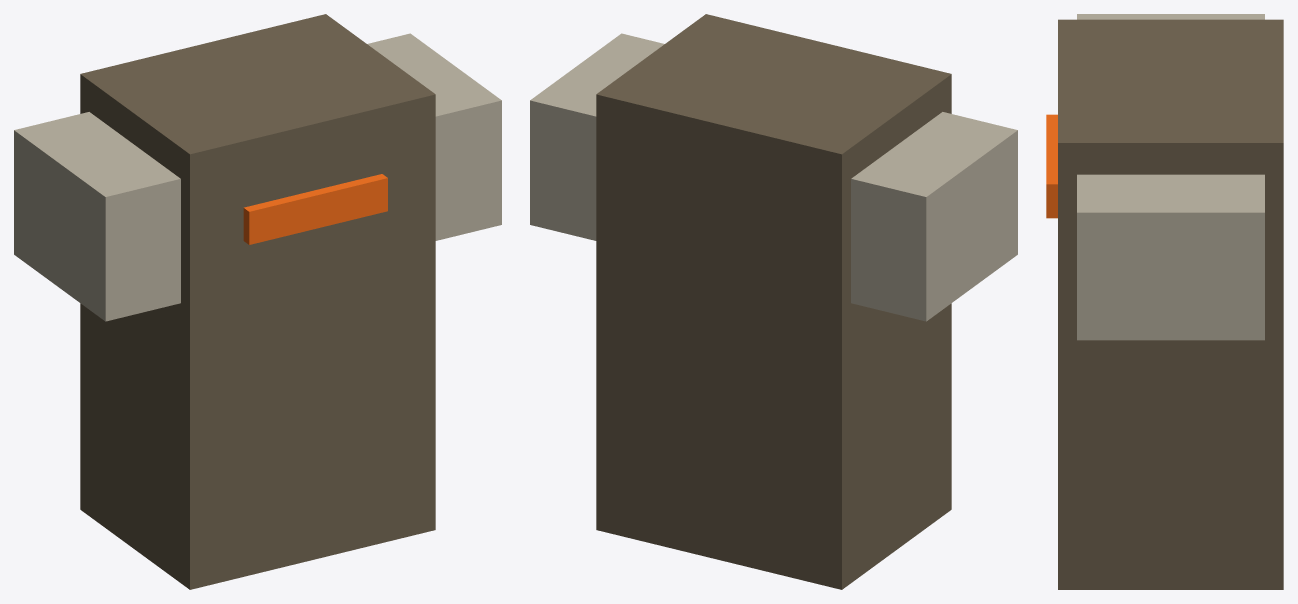
Rendered from slowBrute.obj.
3 views of the same model, side by side, from view 1: azimuth 30°, elevation 25°; view 2: azimuth 150°, elevation 25°; view 3: azimuth 270°, elevation 25° (orthographic). The views are drawn at different scales.
Size of the model in its own units: 2 by 2.1 by 1.01.
